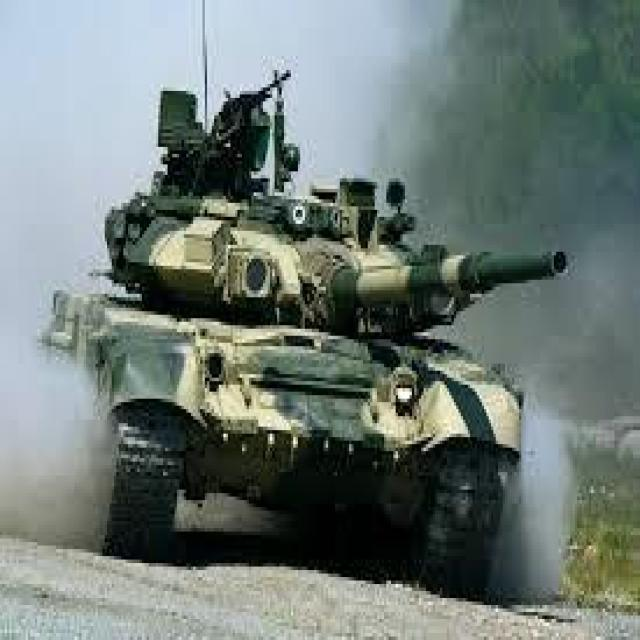Tanks: (36, 61, 562, 621)
